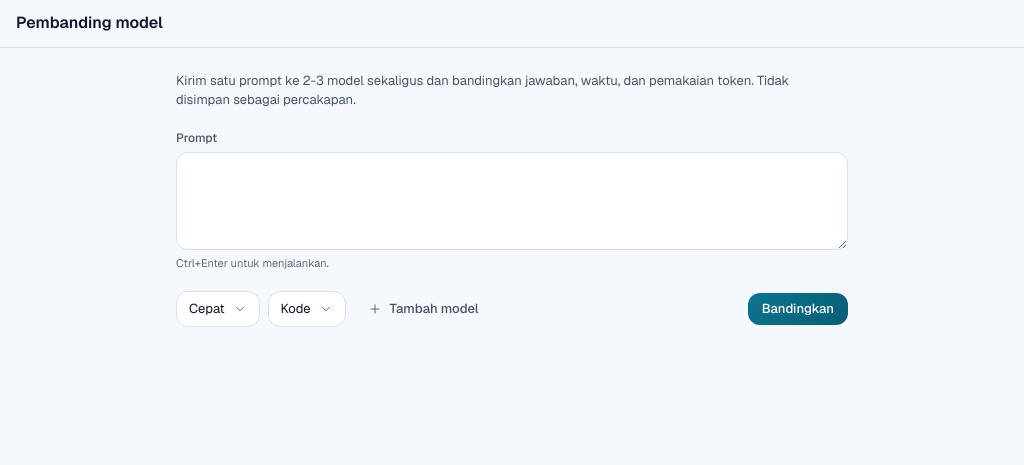
Test: CompareScreen › memilih model yang sama di dua slot ditolak sebelum dikirim
The width and height of the screenshot is (1024, 465).
In the text box labelled "Prompt": (512, 201) top-left (176, 152), bottom-right (848, 250), type "halo"
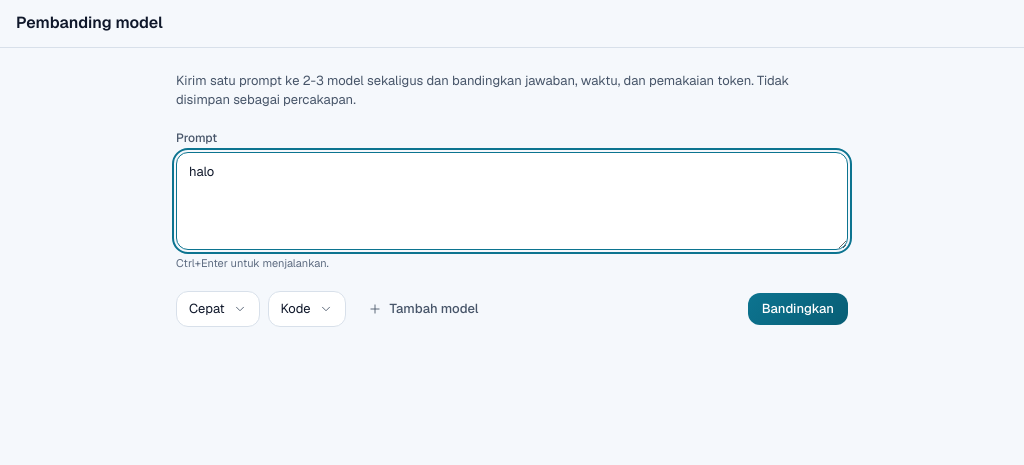
Click the button "Kode": (307, 309) top-left (268, 291), bottom-right (346, 327)
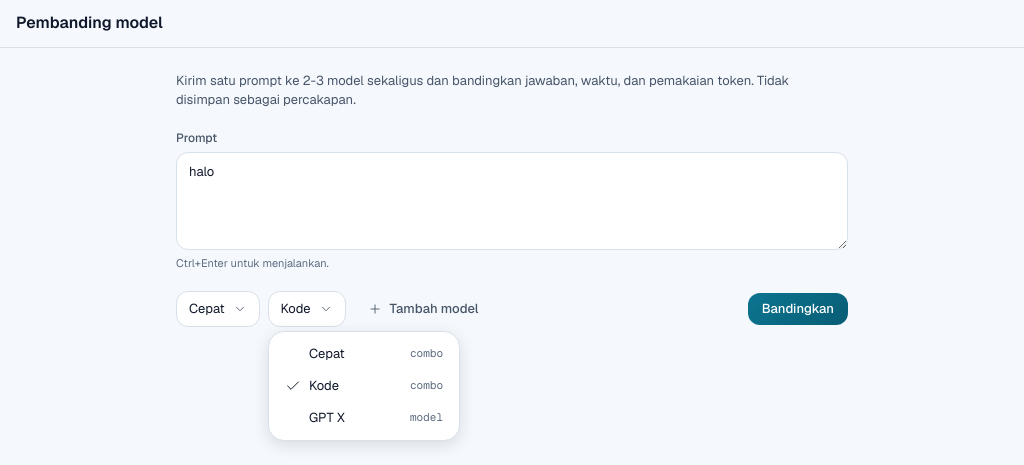
Click the menu item "Cepat combo": (327, 353) top-left (309, 345), bottom-right (443, 362)
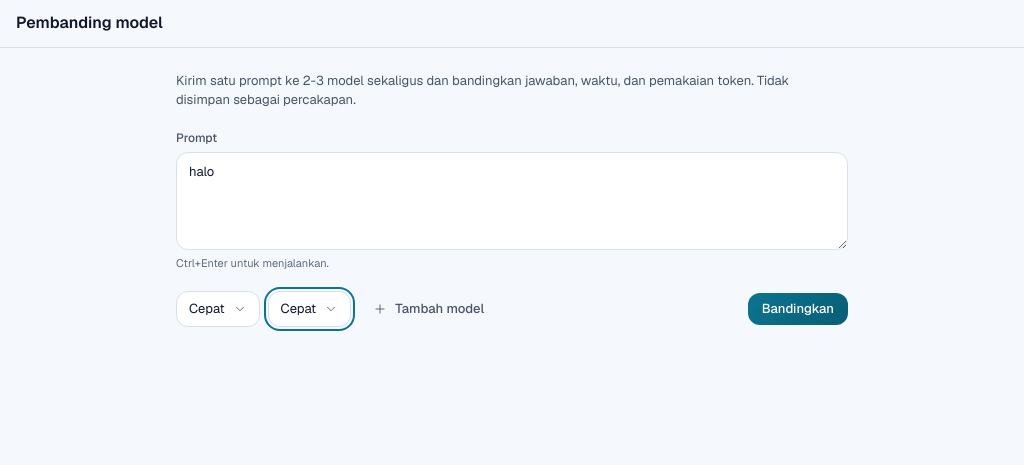
Click the button "Bandingkan": (798, 309) top-left (748, 293), bottom-right (848, 325)
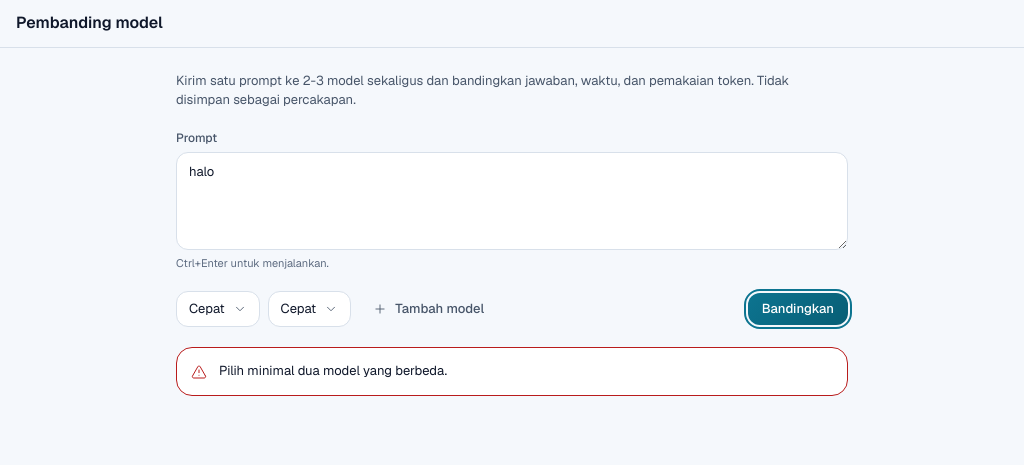
Expected: the message reads "Pilih minimal dua model yang berbeda.", top-left (219, 362), bottom-right (447, 379)
